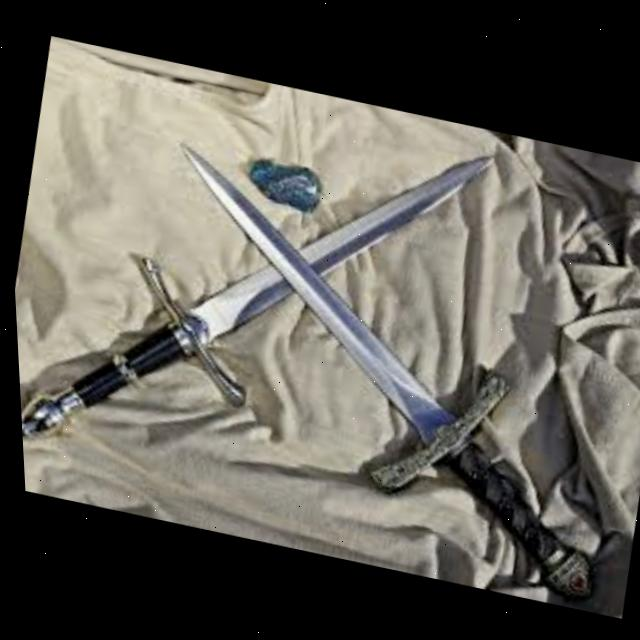Knife: (104, 130, 640, 606), (2, 59, 508, 528)
